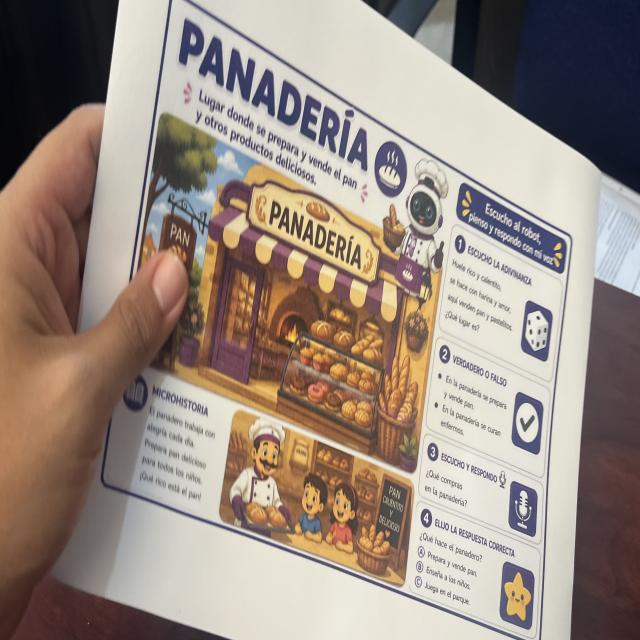panaderia: (98, 0, 576, 640)
